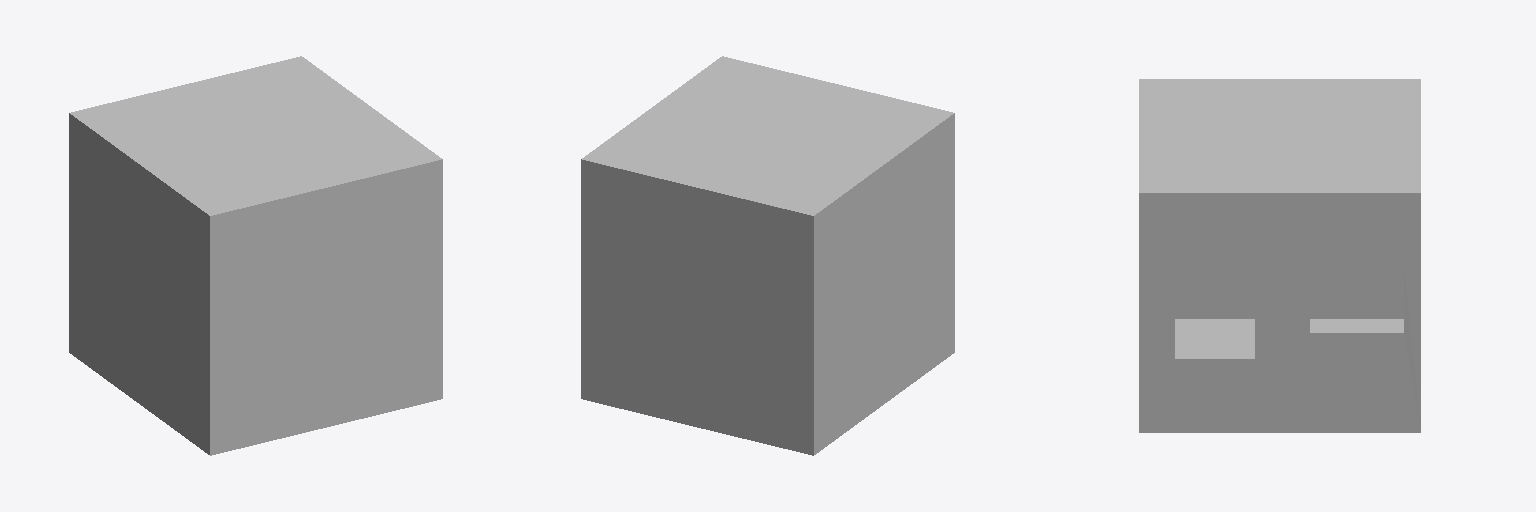
Rendered from smallsection_uv.obj.
3 renders of one model, left to right at view 1: azimuth 30°, elevation 25°; view 2: azimuth 150°, elevation 25°; view 3: azimuth 270°, elevation 25°, orthographic.
Parts seen in each view (by area): view 1: SmallSection1 MainBuilding; view 2: SmallSection1 MainBuilding; view 3: SmallSection1 MainBuilding.
Boxes of the visible parts, <box> form: SmallSection1 MainBuilding: <box>69,56,442,455</box>; SmallSection1 MainBuilding: <box>581,56,954,455</box>; SmallSection1 MainBuilding: <box>1139,79,1420,432</box>.
Size of the model in its own units: 8 by 7.87 by 8.4.